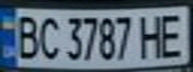3: (60, 14, 84, 61)
7: (112, 12, 139, 61), (78, 14, 100, 61)
8: (97, 14, 118, 61)
B: (9, 11, 42, 61)
C: (36, 12, 60, 61)
E: (157, 9, 190, 58)
H: (136, 11, 166, 60)
